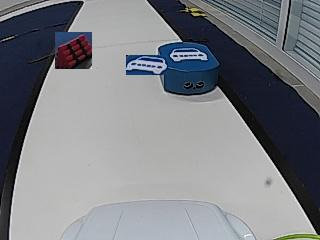safety: (169, 46, 208, 62)
